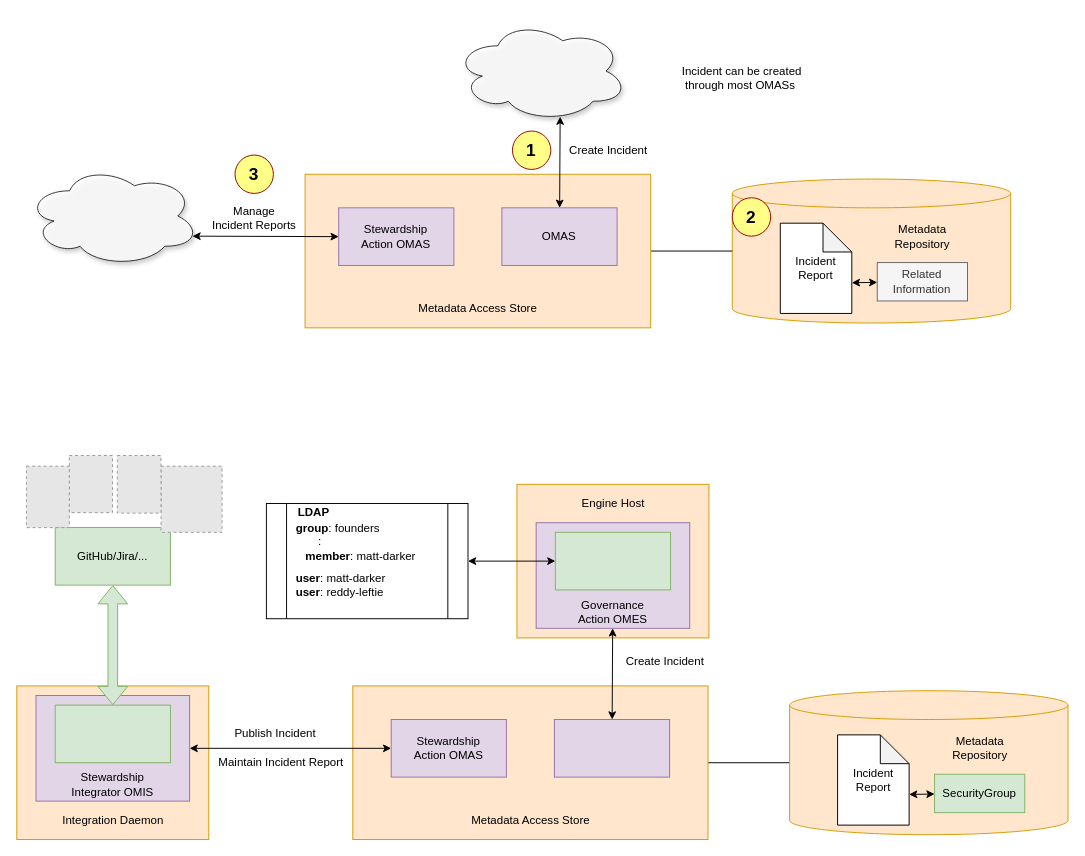
This 1085x856 diagram has some shape labels left out. Grey dashed boxes stand in for pictures. Here are the shapes that lost their labels. From the top down, the centre of each, then its label:
pixel 612 560: LDAP Verifier Governance Action Service
pixel 112 733: Incident Manager Integration Connector
pixel 611 748: Governance Action OMAS
